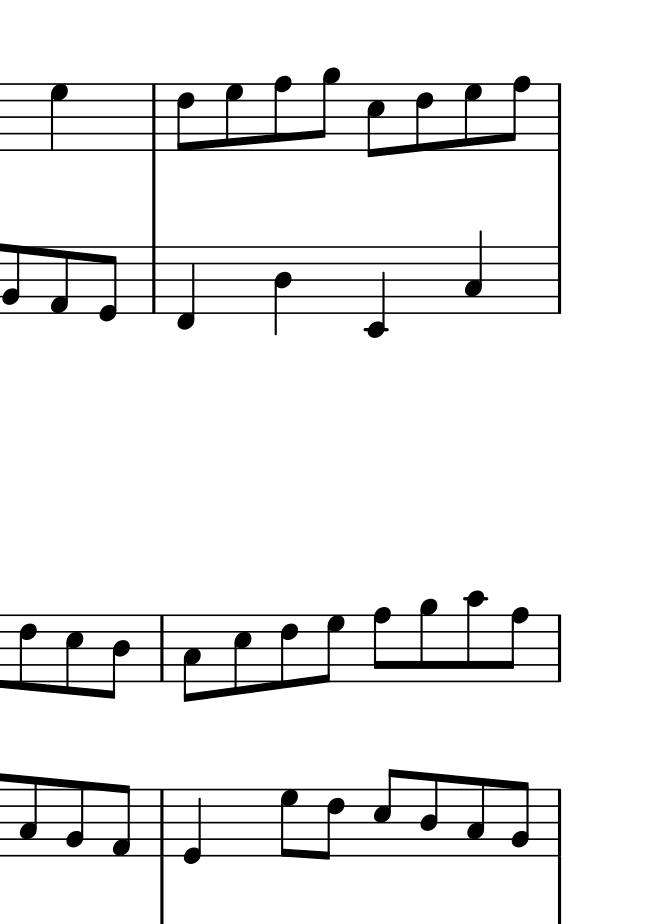4_-1: (173, 244, 198, 332)
4_-2: (364, 243, 388, 339)
4_0: (182, 787, 205, 866)
4_3: (463, 229, 486, 316)
4_4: (271, 244, 294, 339)
4_7: (48, 82, 71, 153)
8_0: (95, 245, 120, 324)
8_1: (108, 782, 132, 859), (46, 244, 71, 317)
8_10: (463, 590, 487, 684)
8_2: (64, 779, 86, 859), (510, 779, 531, 859), (1, 243, 22, 317)
8_3: (180, 613, 203, 705), (465, 775, 488, 859), (18, 775, 40, 859)
8_4: (104, 613, 131, 702), (418, 772, 441, 859)
8_5: (371, 768, 400, 859), (230, 613, 251, 697), (364, 82, 386, 160), (63, 613, 83, 697)
8_6: (319, 788, 346, 863), (15, 612, 37, 693), (278, 613, 299, 691), (174, 81, 196, 153), (413, 82, 435, 154)
8_7: (317, 613, 344, 685), (461, 82, 483, 152), (278, 787, 299, 860), (223, 82, 244, 152)
8_8: (503, 74, 532, 153), (502, 606, 530, 685), (271, 75, 294, 153), (371, 606, 393, 685)
8_9: (311, 66, 342, 153), (418, 598, 440, 685)
Single_barline: (145, 84, 163, 150), (551, 615, 568, 682), (153, 789, 170, 855), (551, 790, 567, 856), (552, 84, 567, 151), (146, 247, 161, 314), (551, 247, 566, 312), (155, 617, 169, 680)
